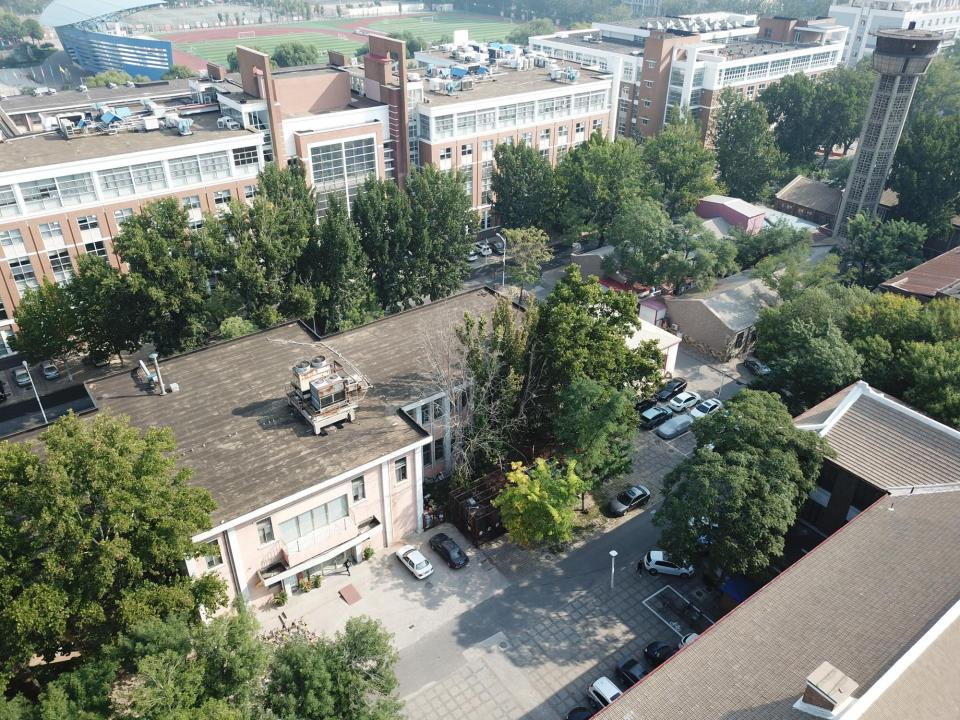car: (644, 641, 711, 686), (586, 676, 652, 720), (615, 656, 673, 702), (678, 632, 738, 675), (429, 533, 470, 569), (644, 550, 695, 578), (395, 544, 434, 580), (609, 485, 651, 515), (707, 406, 745, 434), (656, 414, 695, 439), (676, 534, 717, 556), (654, 377, 688, 402), (638, 406, 674, 429), (689, 398, 723, 422), (692, 438, 727, 460), (622, 395, 657, 416), (744, 357, 776, 379), (668, 391, 701, 412), (753, 347, 784, 369), (10, 367, 32, 388), (88, 347, 110, 367), (39, 360, 60, 380), (469, 242, 492, 257), (484, 240, 507, 255), (456, 247, 478, 262)
van: (687, 515, 735, 540)
